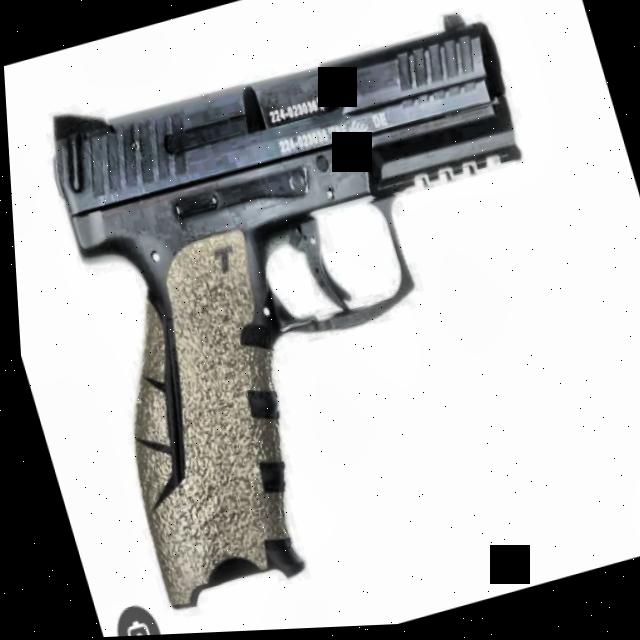HKVP9: (19, 0, 624, 618)
